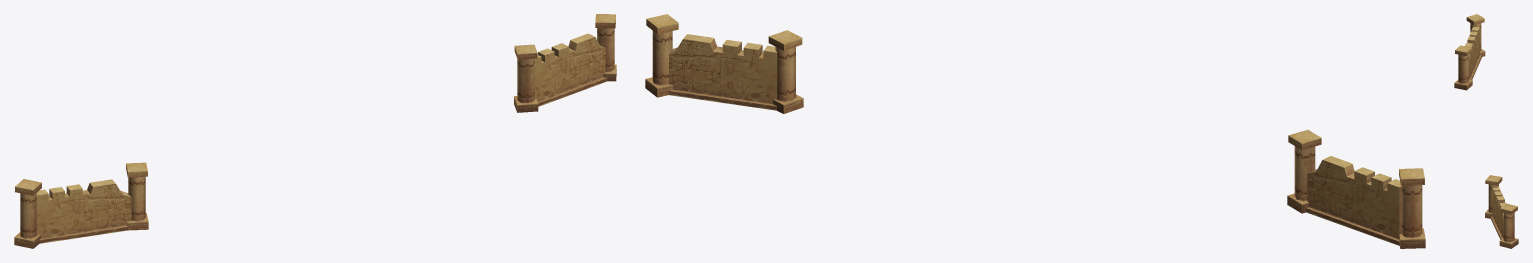
The model's file is Area_13_11.fbx.
The picture shows the model from 3 angles, left to right: view 1: azimuth 30°, elevation 25°; view 2: azimuth 150°, elevation 25°; view 3: azimuth 270°, elevation 25°; orthographic projection. The views are drawn at different scales.
Parts seen in each view (by area): view 1: Area_13_11; view 2: Area_13_11; view 3: Area_13_11.
Part boxes in pixels (x1,y1,x2,y2): Area_13_11: (14, 14, 616, 248); Area_13_11: (645, 14, 1425, 248); Area_13_11: (1454, 14, 1518, 248).
Bounding box in the file's own units: 4615 × 410 × 632.
